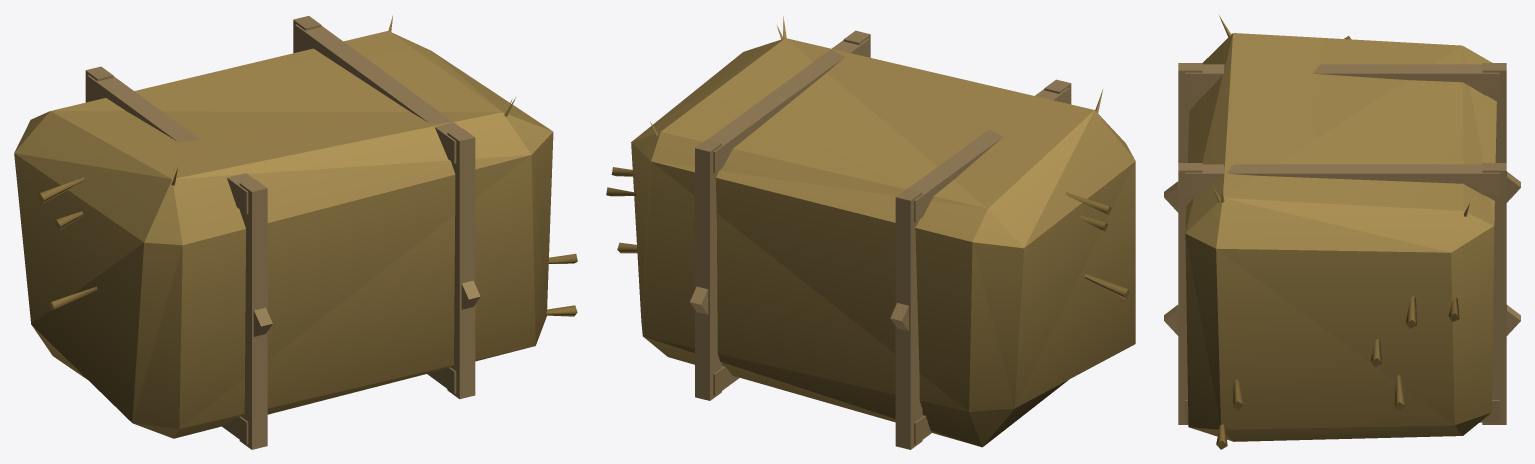
File: hay-bale.glb
3 views of the same model, side by side, from view 1: azimuth 30°, elevation 25°; view 2: azimuth 150°, elevation 25°; view 3: azimuth 270°, elevation 25° (orthographic). The views are drawn at different scales.
Visible parts, largest first — view 1: hay_bale; view 2: hay_bale; view 3: hay_bale.
Boxes of the visible parts, x1,y1,x2,y2 form: hay_bale: (14, 15, 577, 449); hay_bale: (606, 16, 1135, 449); hay_bale: (1164, 15, 1520, 449).
Size of the model in its own units: 1.14 by 0.6331 by 0.7375.
